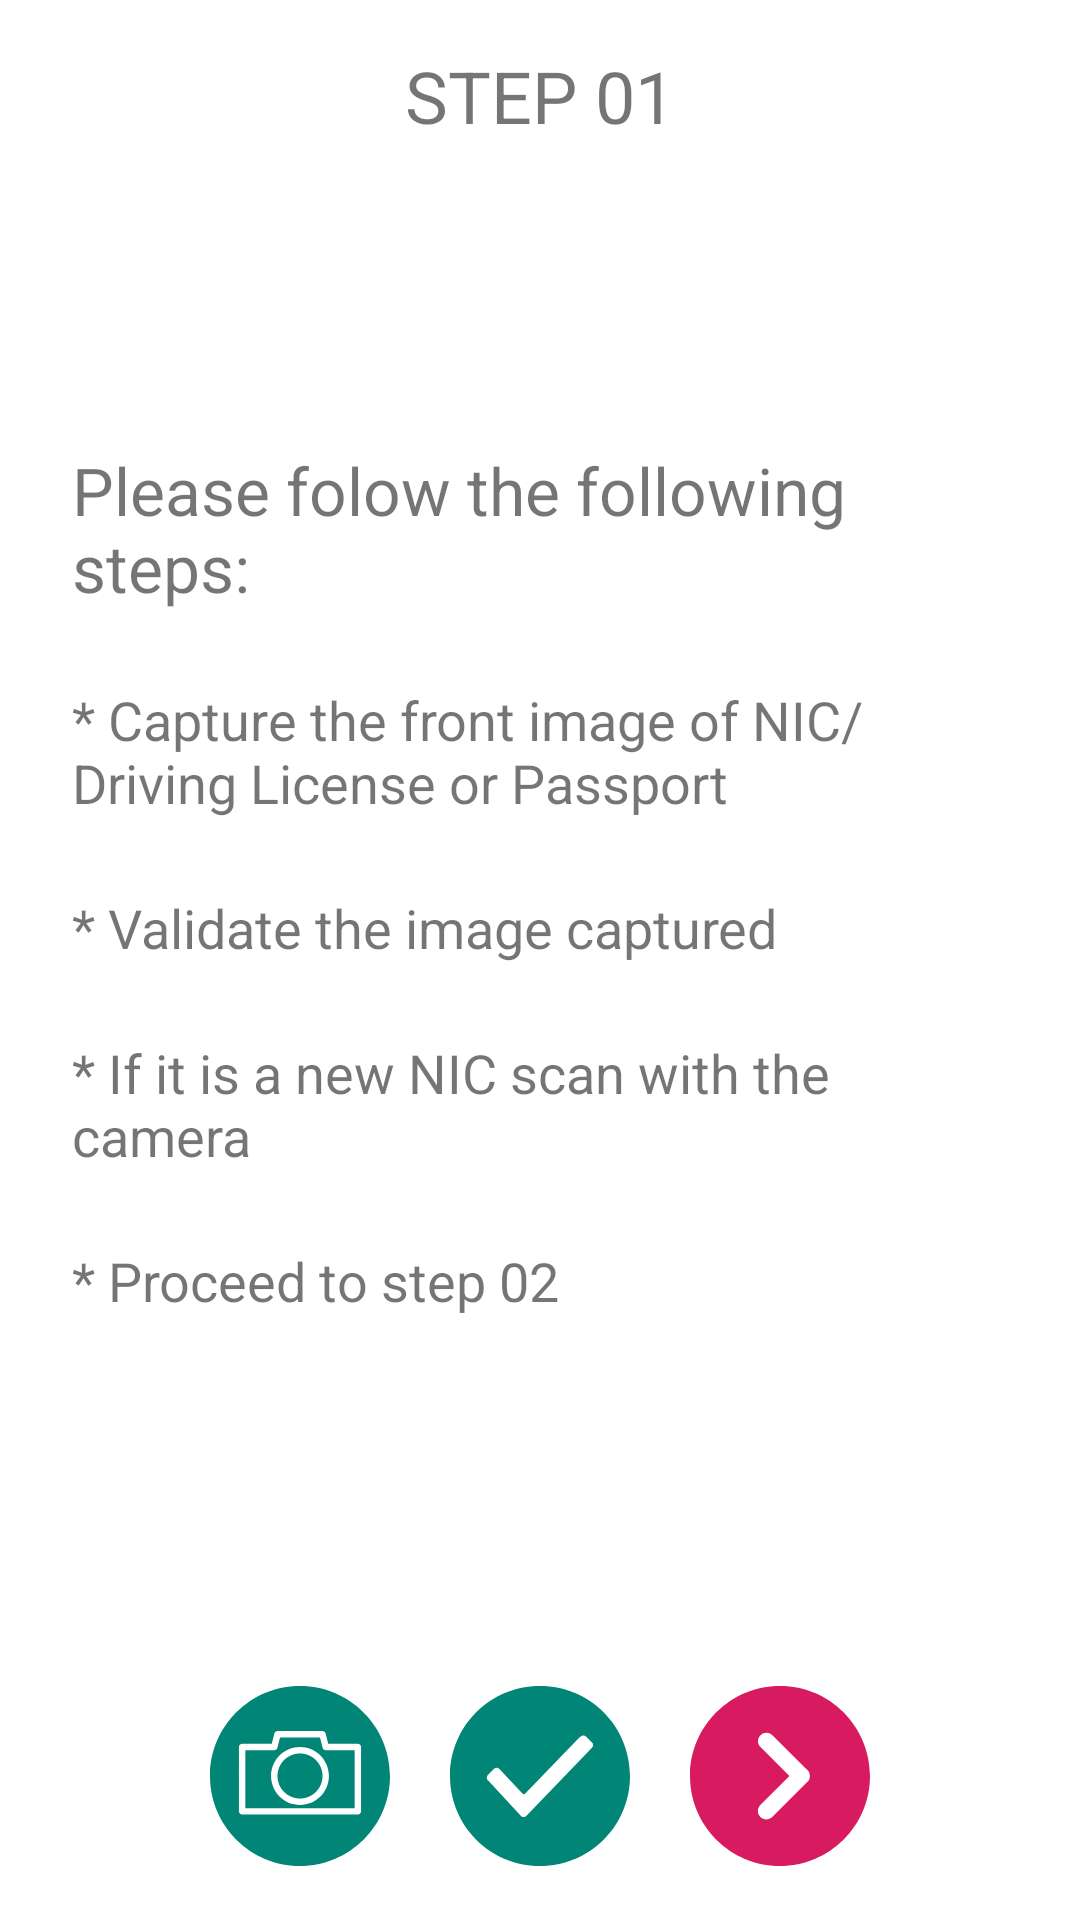

Icon click points for this 1080 × 1920 phone screenshot, format [x,y]:
camera: [300,1776]
checked: [540,1776]
next: [780,1776]
